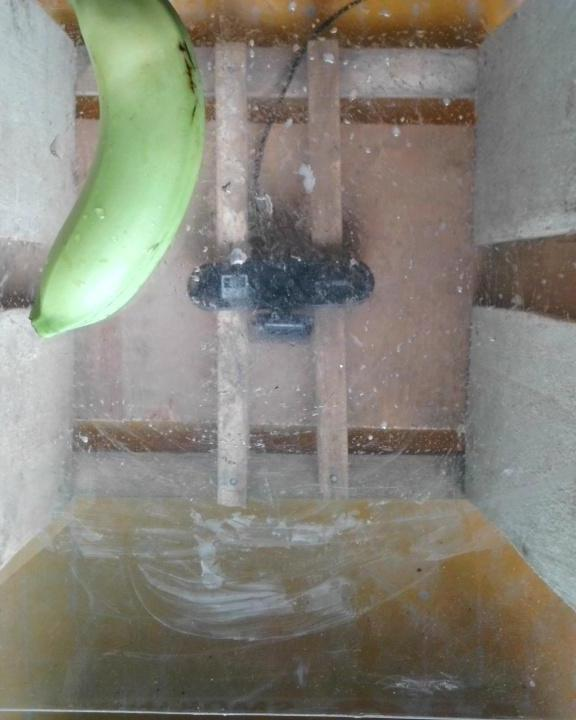CLASS B: (24, 1, 230, 348)
Class A: (165, 30, 203, 135)
